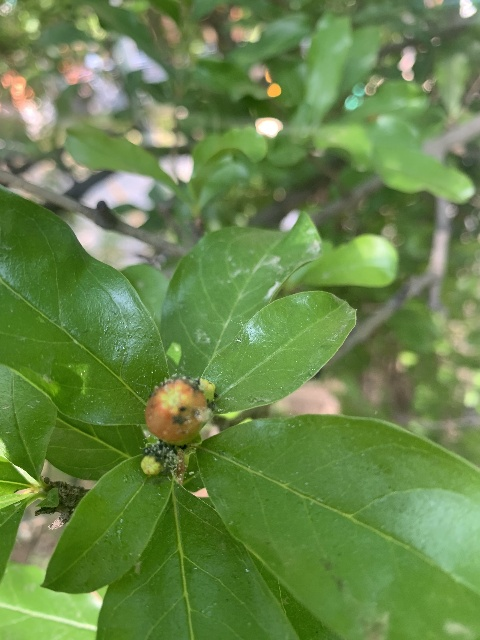bud: (144, 379, 209, 445)
